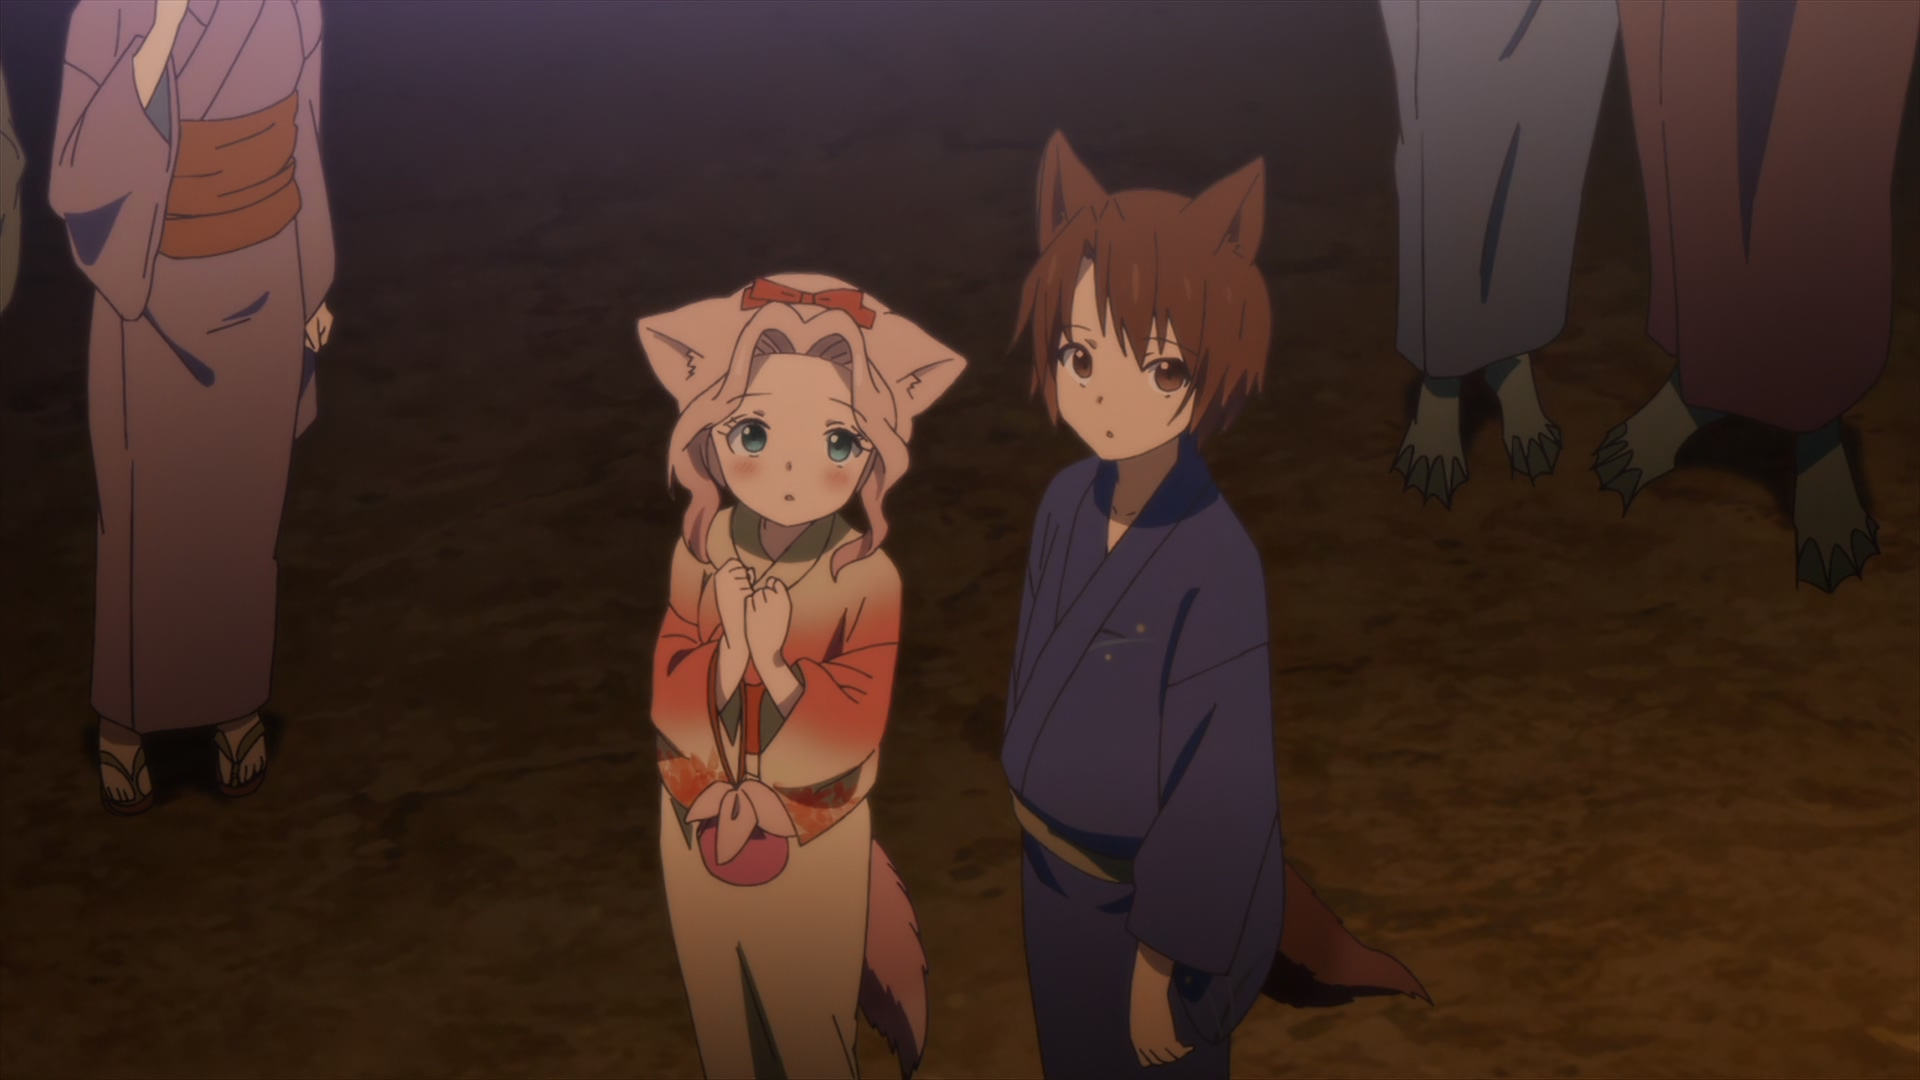其他: (46, 1, 336, 808), (1590, 1, 1920, 591), (1373, 1, 1619, 498)
枣: (1007, 129, 1284, 1080)
莲: (637, 269, 965, 1080)
